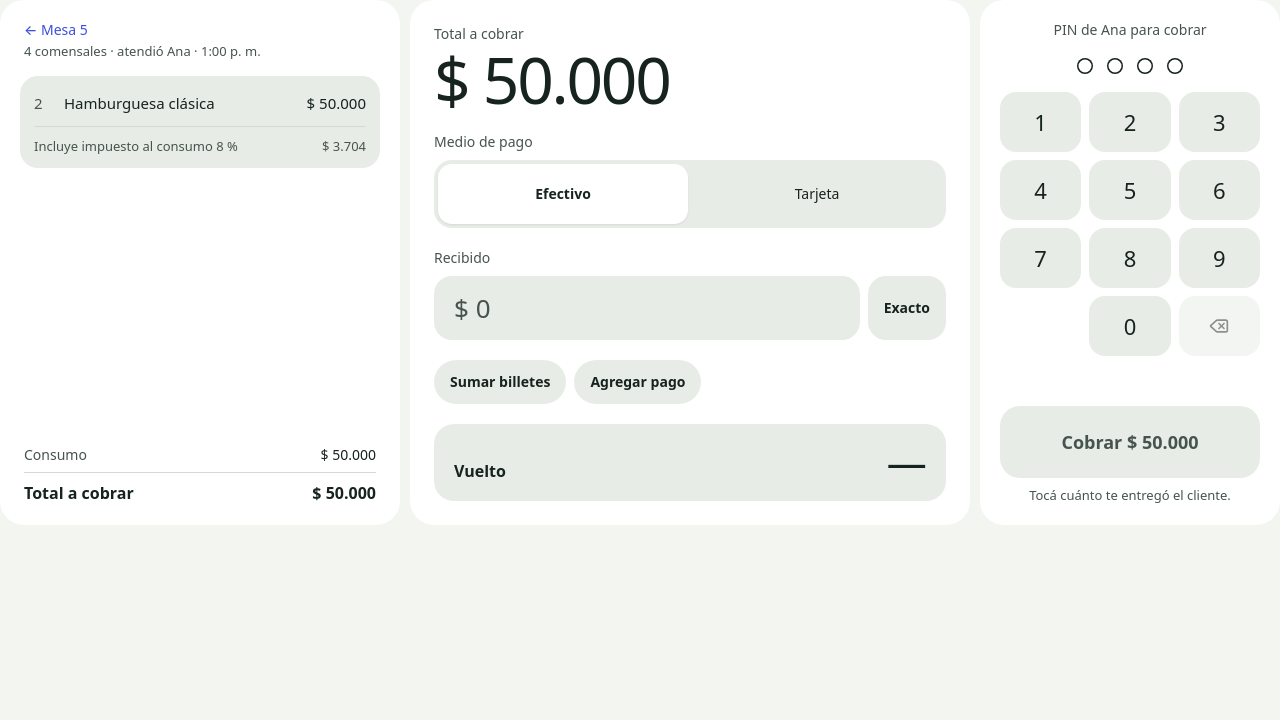
CheckoutPage › 409 STALE_VERSION reemplaza la comanda local por extra.order y muestra el aviso
The width and height of the screenshot is (1280, 720).
Click the button "Exacto" at (907, 308), box [868,276,946,340]
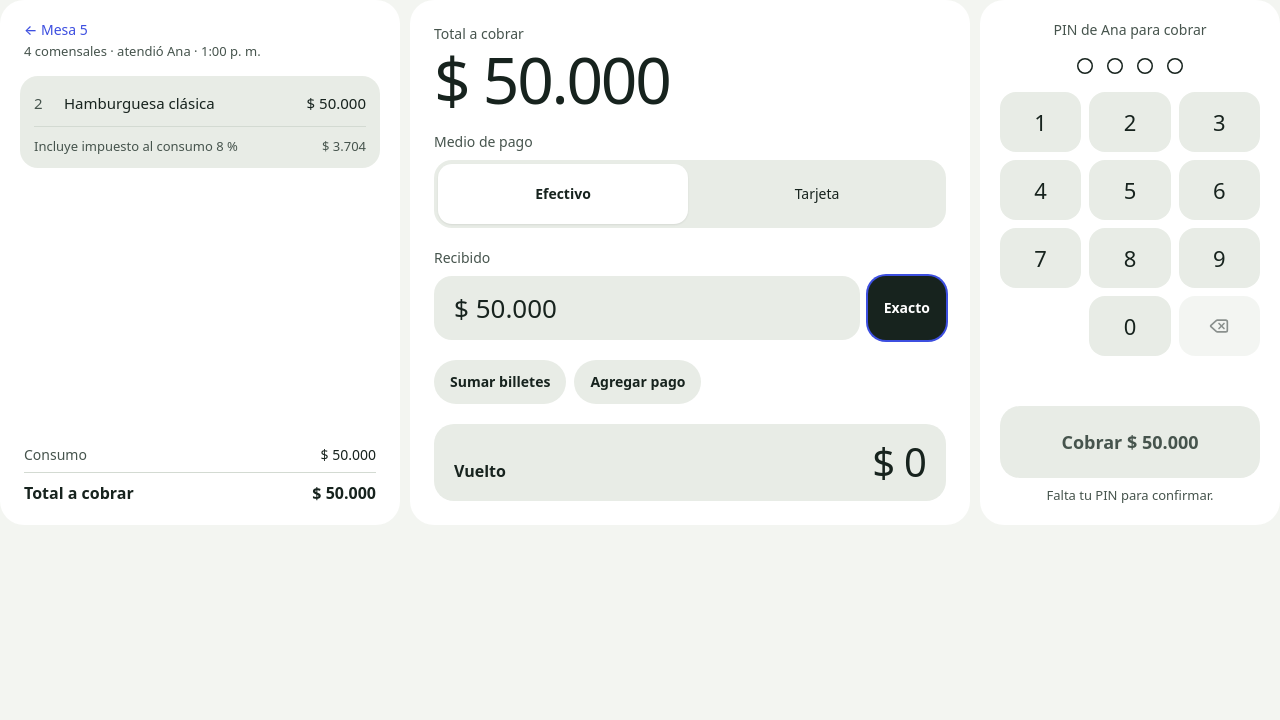
Check: the text "Falta tu PIN para confirmar." is shown, box [1046,486,1214,504]
Type keys "1234"
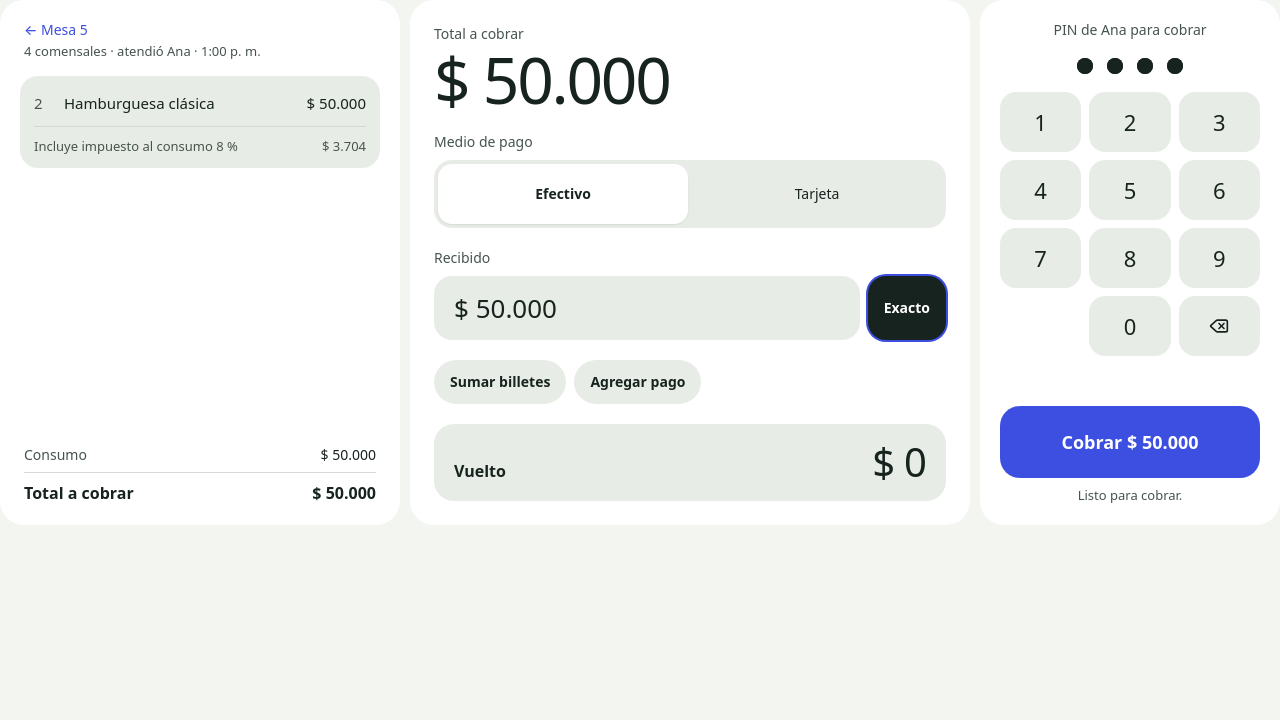
Click the button "Cobrar $ 50.000" at (1130, 442), box [1000,406,1260,478]
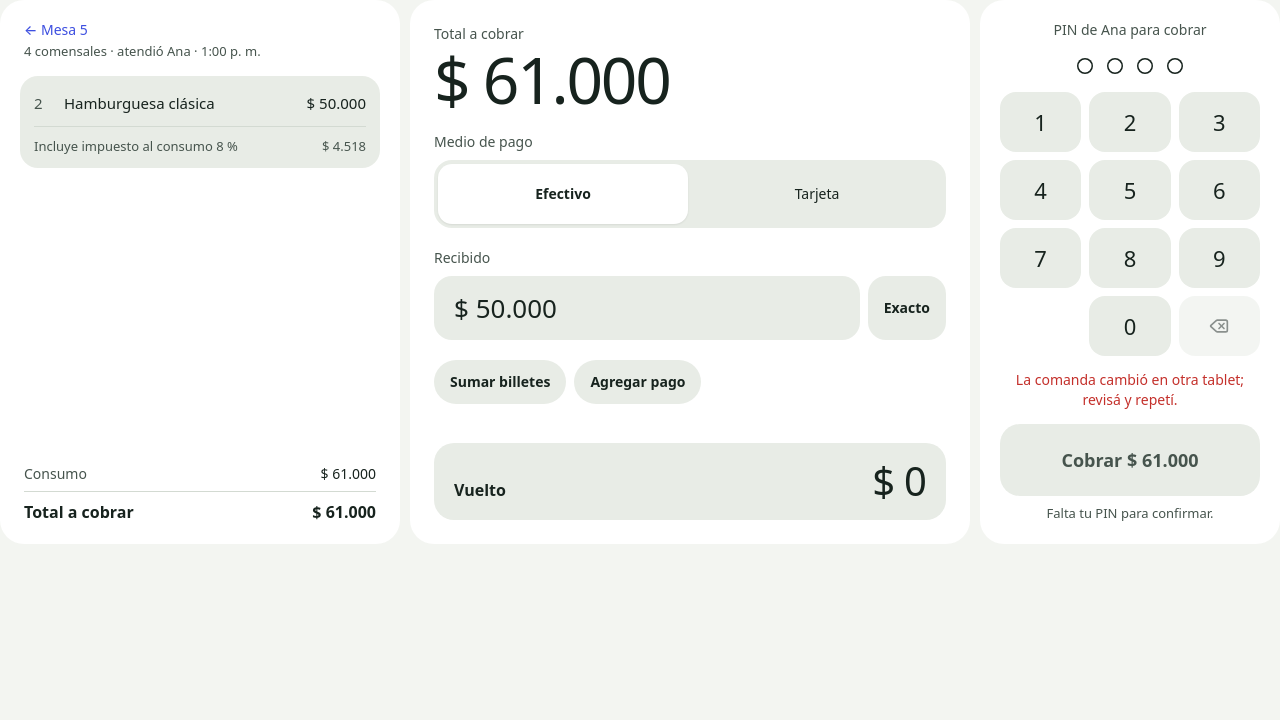
Check: the message "La comanda cambió en otra tablet; revisá y repetí." is shown, box [1000,370,1260,410]
Check: the 2nd text "$ 61.000" is shown, box [320,464,376,484]
